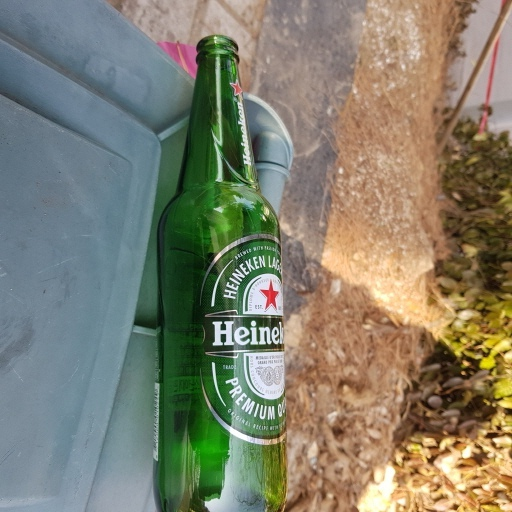Glass_1: (154, 34, 291, 512)
